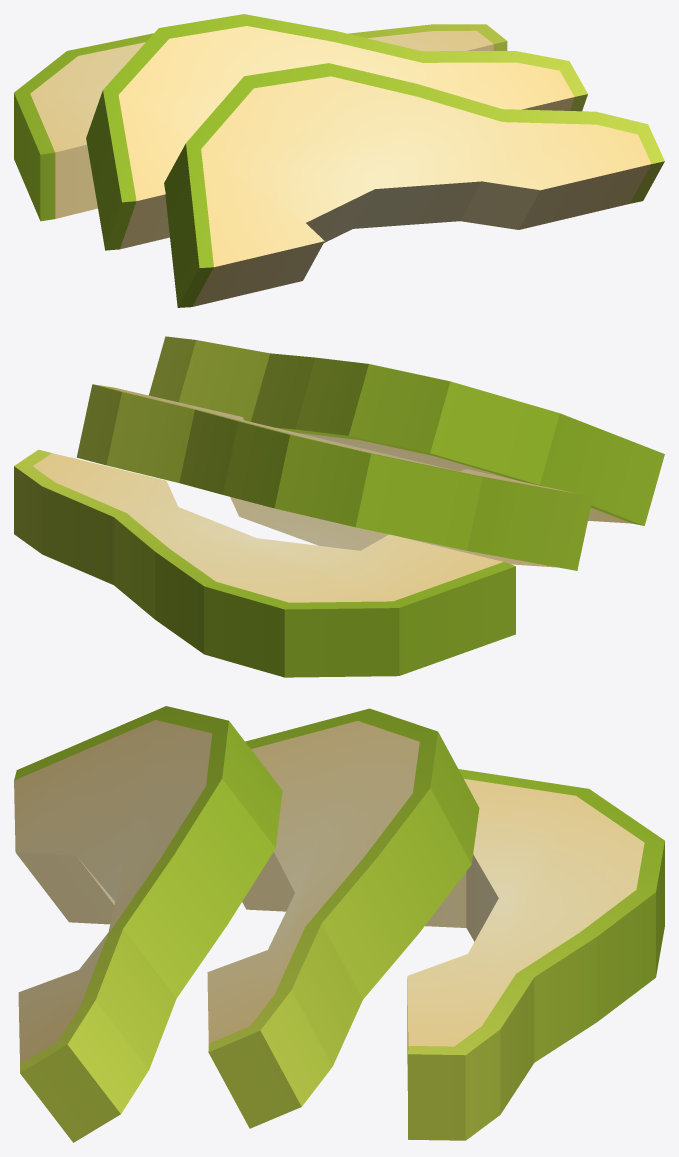
Rendered from Pear Slice.fbx.
The picture shows the model from 3 angles, top to bottom: view 1: azimuth 30°, elevation 25°; view 2: azimuth 150°, elevation 25°; view 3: azimuth 270°, elevation 25°; orthographic projection. The views are drawn at different scales.
Visible parts, largest first — view 1: Pear Slice.002, Pear Slice.001, Pear Slice; view 2: Pear Slice, Pear Slice.001, Pear Slice.002; view 3: Pear Slice.002, Pear Slice.001, Pear Slice.
Boxes of the visible parts, x1,y1,x2,y2 form: Pear Slice.002: (164,63,664,307); Pear Slice.001: (86,14,587,250); Pear Slice: (14,24,507,221); Pear Slice: (14,449,515,677); Pear Slice.001: (76,384,592,570); Pear Slice.002: (149,336,664,525); Pear Slice.002: (14,706,282,1142); Pear Slice.001: (207,708,479,1128); Pear Slice: (407,769,664,1140).
Size of the model in its own units: 19.62 by 6.45 by 18.1.
